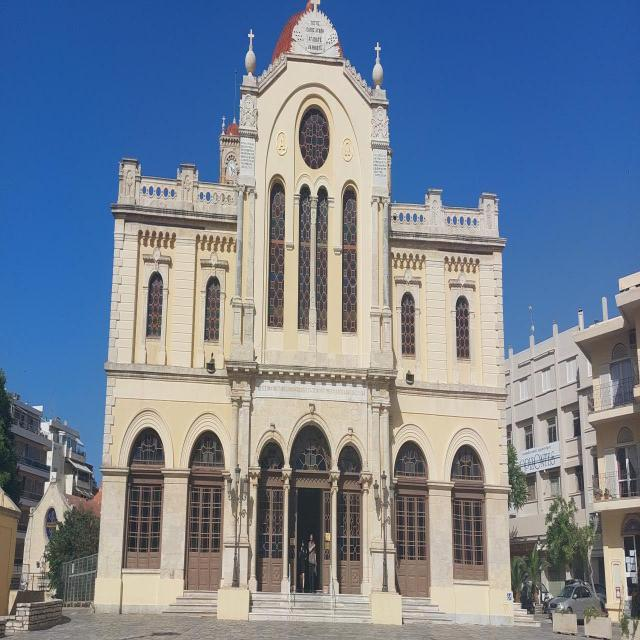Agios Minas: (90, 1, 514, 626)
